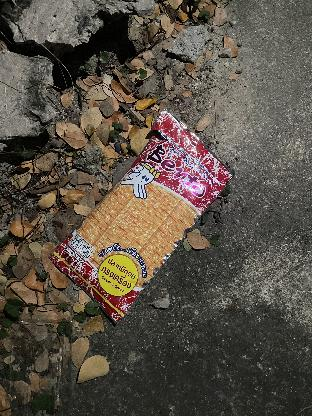Plastic Packaging: (47, 107, 237, 324)
